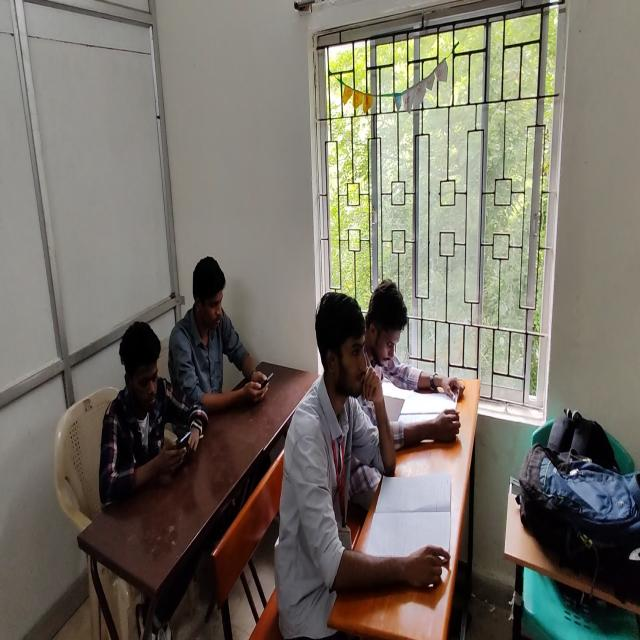reading: (266, 290, 432, 636), (367, 278, 462, 402)
using_mobile: (101, 318, 211, 510), (168, 255, 268, 426)
